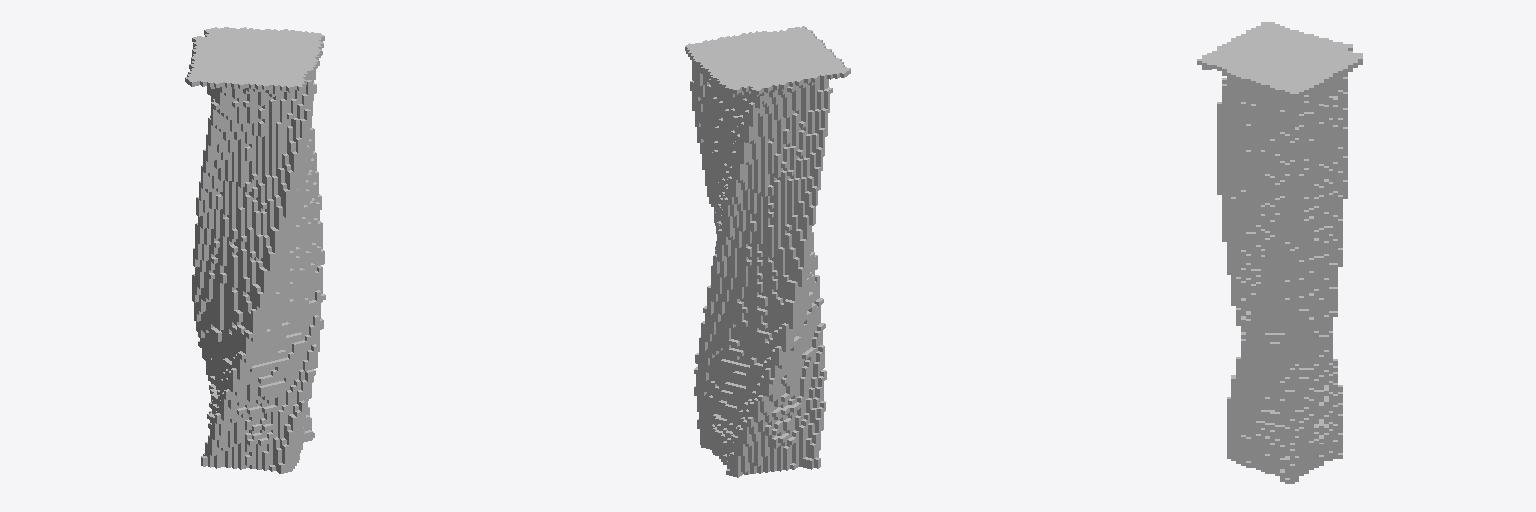
The model's file is celtic_themed_sky_scr_1223200503_texture_35x90x34.obj.
3 renders of one model, left to right at view 1: azimuth 30°, elevation 25°; view 2: azimuth 150°, elevation 25°; view 3: azimuth 270°, elevation 25°, orthographic.
Parts seen in each view (by area): view 1: celtic_themed_sky_scr_[number redacted]_texture_35x90x34; view 2: celtic_themed_sky_scr_[number redacted]_texture_35x90x34; view 3: celtic_themed_sky_scr_[number redacted]_texture_35x90x34.
Boxes of the visible parts, x1=… form: celtic_themed_sky_scr_[number redacted]_texture_35x90x34: x1=185, y1=27, x2=325, y2=473; celtic_themed_sky_scr_[number redacted]_texture_35x90x34: x1=685, y1=26, x2=850, y2=477; celtic_themed_sky_scr_[number redacted]_texture_35x90x34: x1=1197, y1=22, x2=1362, y2=483.
Size of the model in its own units: 3.93 by 10.11 by 3.82.